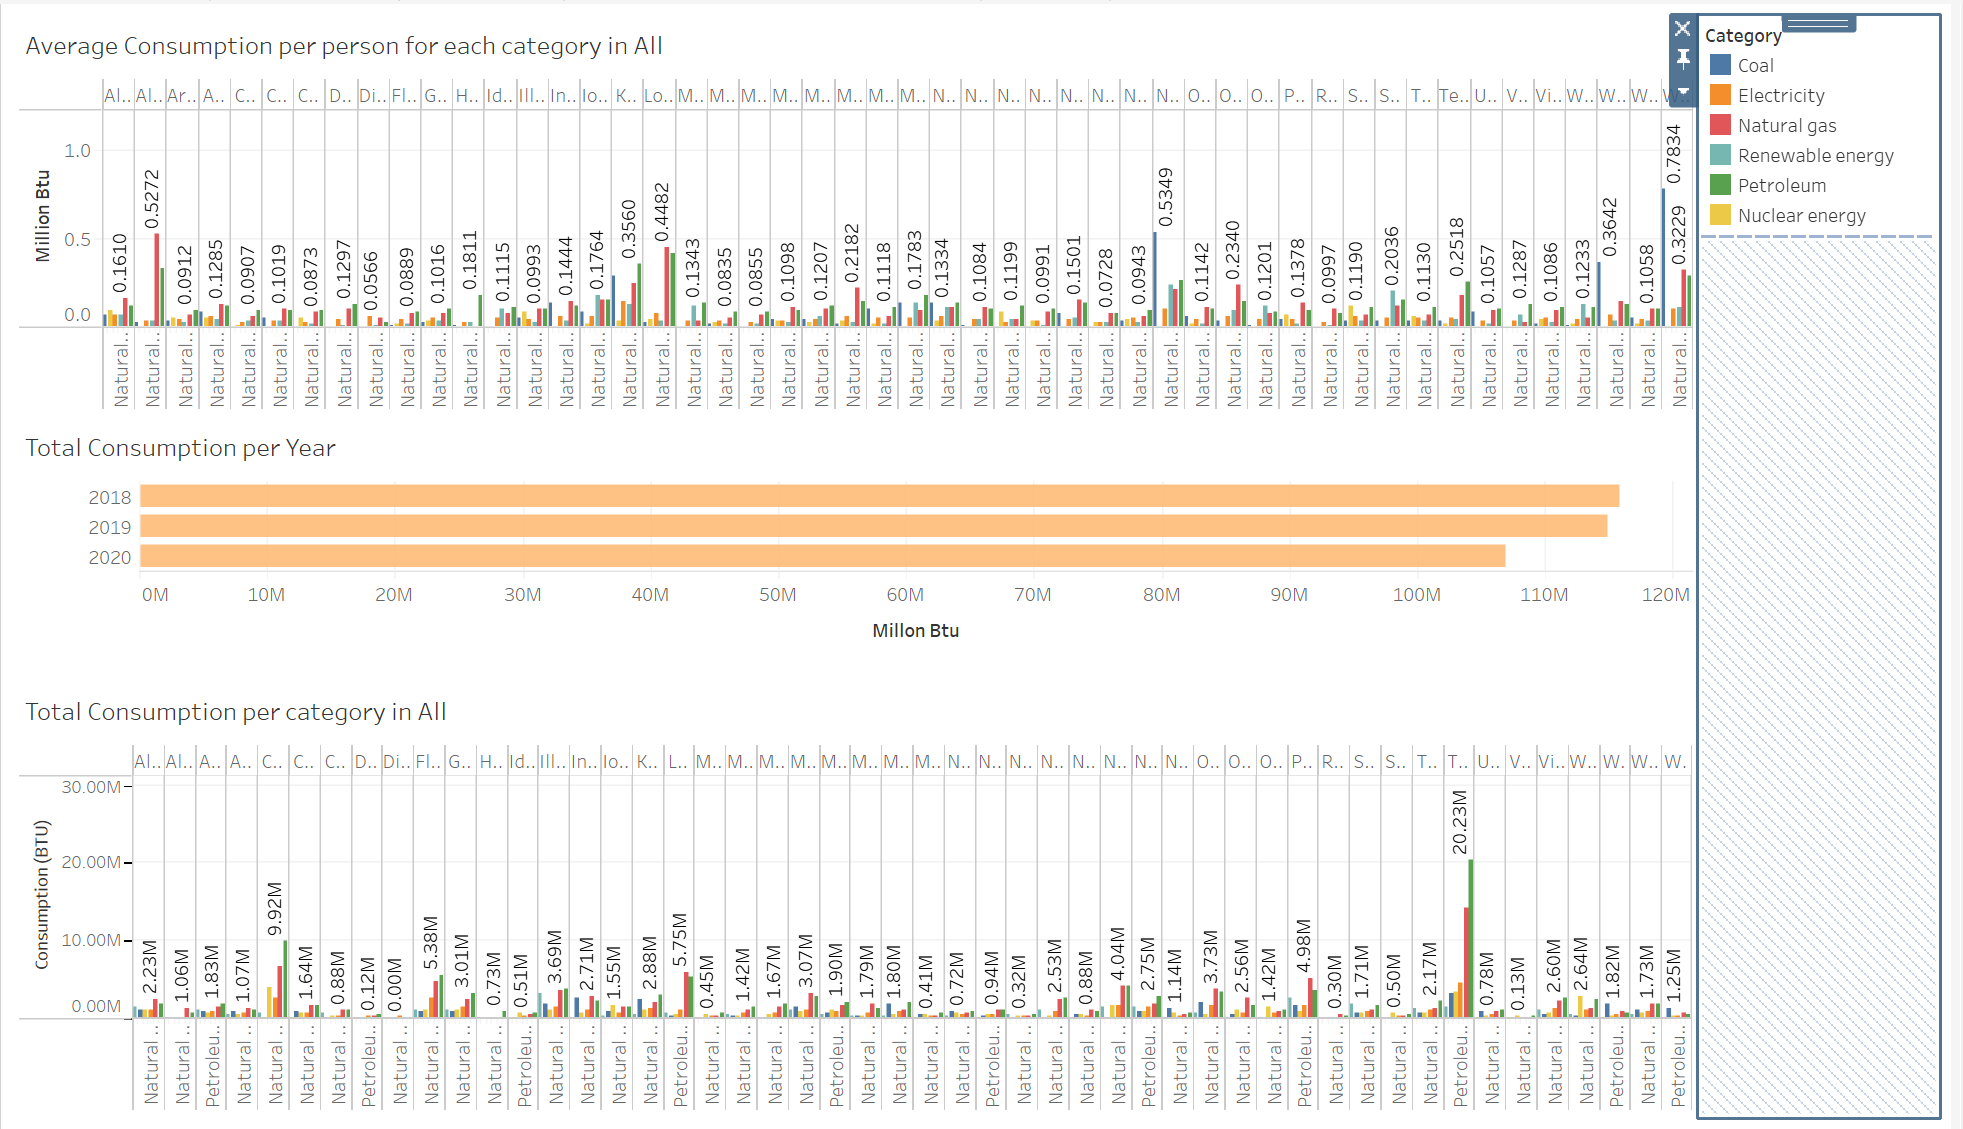

Layout of this report page (visuals, bound fields, positions):
{"tool":"tableau","page":{"name":"Dashboard 2","canvas":[1000,800],"ordinal":1},"visuals":[{"type":"worksheet","title":"Average_Consumption_per_State","mark":"Automatic","cols":["States","Category"],"box":[8,8,824,286]},{"type":"legend","title":"Average_Consumption_per_State","param":"[federated.1aqspm10zvk5s21gs3lb21qi9nee].[attr:Category:nk]","box":[832,8,160,146]},{"type":"worksheet","title":"TotalConsumptionPerYear","mark":"Automatic","box":[8,294,824,188]},{"type":"worksheet","title":"Consumption_per_Category_per_State","mark":"Automatic","rows":["Calculation_2309783676865818624"],"cols":["States","Category"],"box":[8,482,824,310]}]}

Visuals, with their boxes on the page's 1000x800 design canvas (x1, y1, x2, y2). These are canvas units, not pixel positions in the 1963x1129 screenshot, which may show the page scaled, cropped or inside an application window:
"Average_Consumption_per_State" worksheet: locate(8, 8, 832, 294)
"Average_Consumption_per_State" legend: locate(832, 8, 992, 154)
"TotalConsumptionPerYear" worksheet: locate(8, 294, 832, 482)
"Consumption_per_Category_per_State" worksheet: locate(8, 482, 832, 792)
